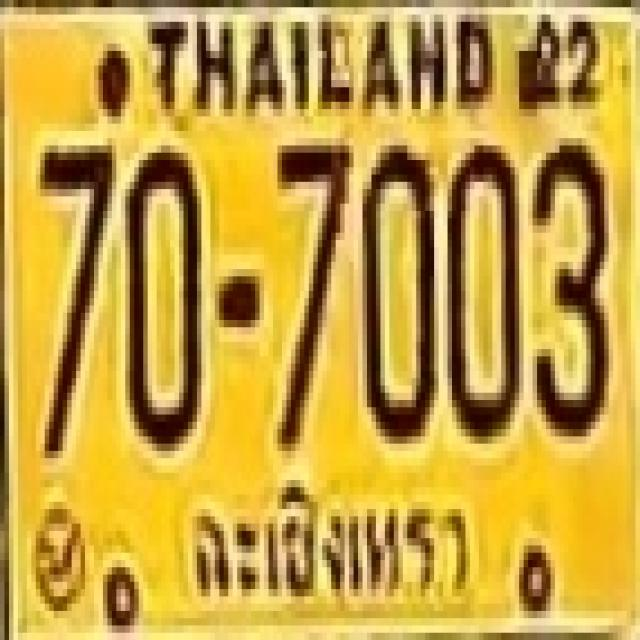0: (123, 146, 199, 444), (358, 138, 434, 436), (443, 138, 515, 436)
3: (528, 138, 604, 429)
7: (36, 138, 115, 463), (273, 138, 349, 444)
CCO: (185, 475, 475, 611)
